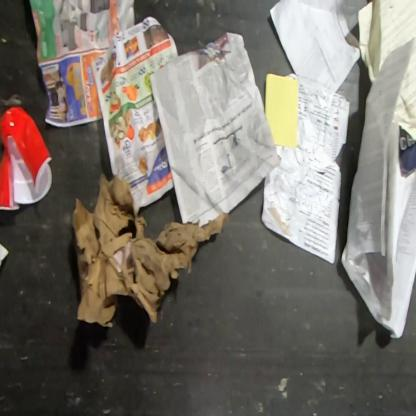rigid_plastic: (0, 104, 53, 211)
